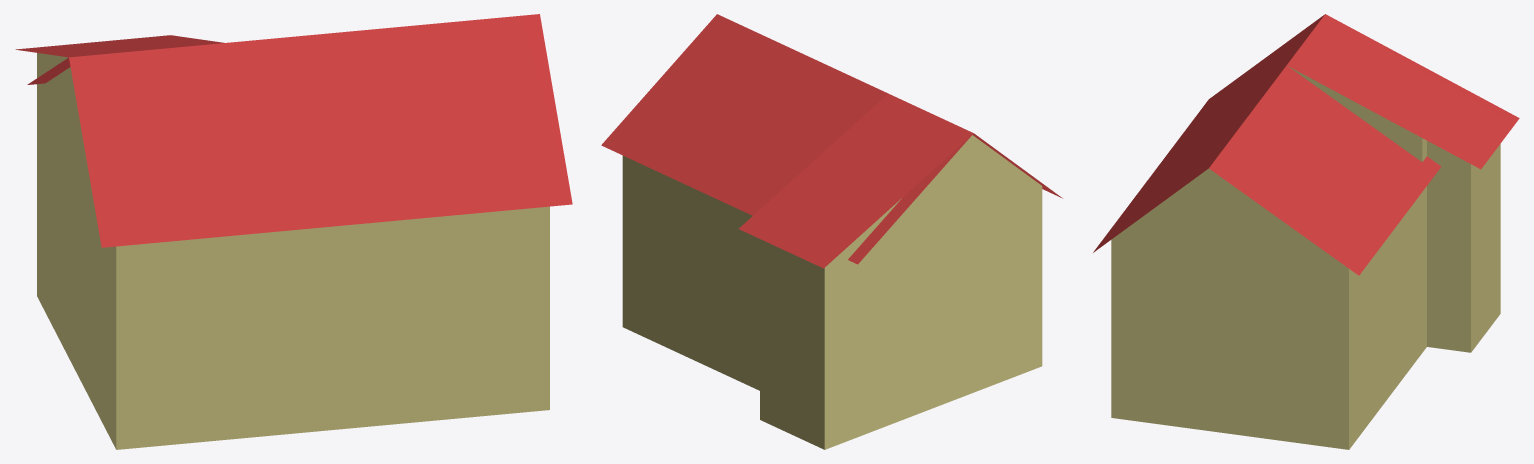
3 renders of one model, left to right at view 1: azimuth 30°, elevation 25°; view 2: azimuth 150°, elevation 25°; view 3: azimuth 270°, elevation 25°, orthographic. The views are drawn at different scales.
Size of the model in its own units: 14.76 by 14.01 by 9.74.
